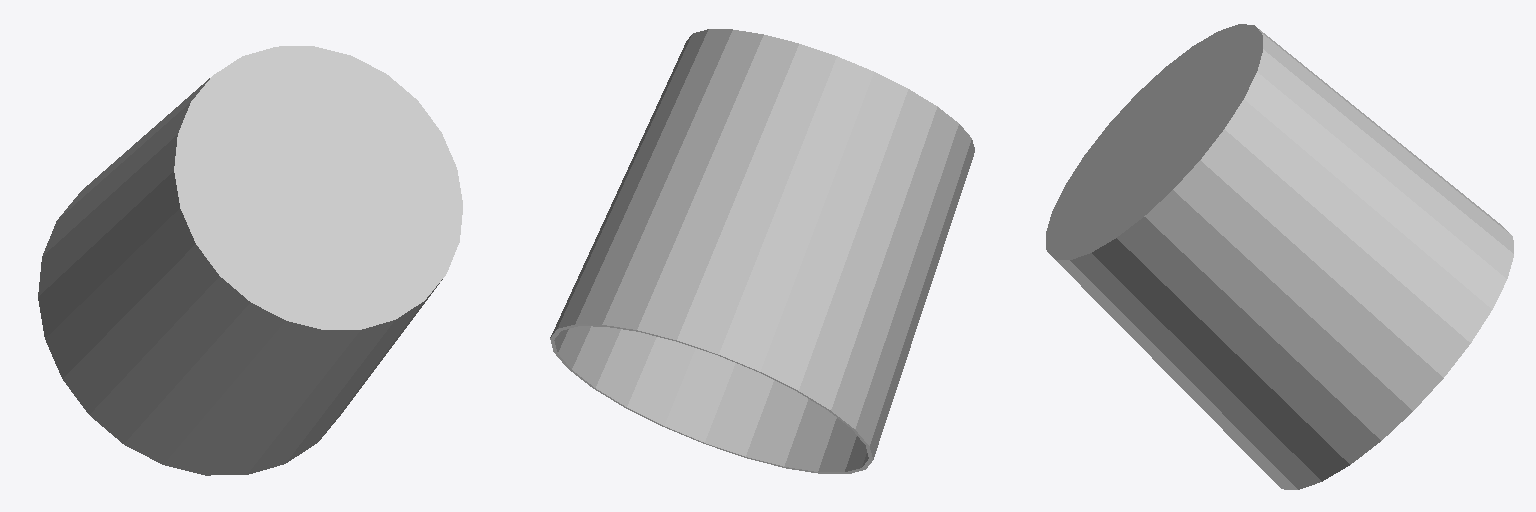
The model's file is WtBkt_GrnRng_8in_5__188034_.obj.
3 views of the same model, side by side, from view 1: azimuth 30°, elevation 25°; view 2: azimuth 150°, elevation 25°; view 3: azimuth 270°, elevation 25° (orthographic).
Parts seen in each view (by area): view 1: WtBkt_GrnRng_8in_5__188034__temp_WtBkt_GrnRng_8in_5__188034_.004; view 2: WtBkt_GrnRng_8in_5__188034__temp_WtBkt_GrnRng_8in_5__188034_.004; view 3: WtBkt_GrnRng_8in_5__188034__temp_WtBkt_GrnRng_8in_5__188034_.004.
Boxes of the visible parts, <box> form: WtBkt_GrnRng_8in_5__188034__temp_WtBkt_GrnRng_8in_5__188034_.004: <box>38,46,462,475</box>; WtBkt_GrnRng_8in_5__188034__temp_WtBkt_GrnRng_8in_5__188034_.004: <box>550,29,974,473</box>; WtBkt_GrnRng_8in_5__188034__temp_WtBkt_GrnRng_8in_5__188034_.004: <box>1046,24,1513,489</box>.
Bounding box in the file's own units: 0.1201 × 0.1635 × 0.1635.